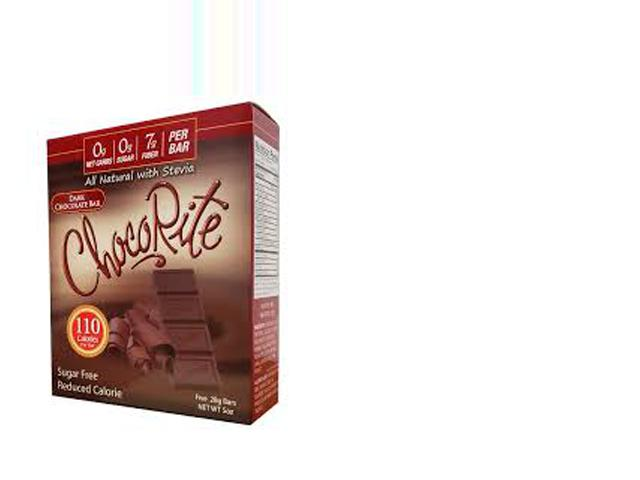chocolate: (40, 109, 277, 424)
